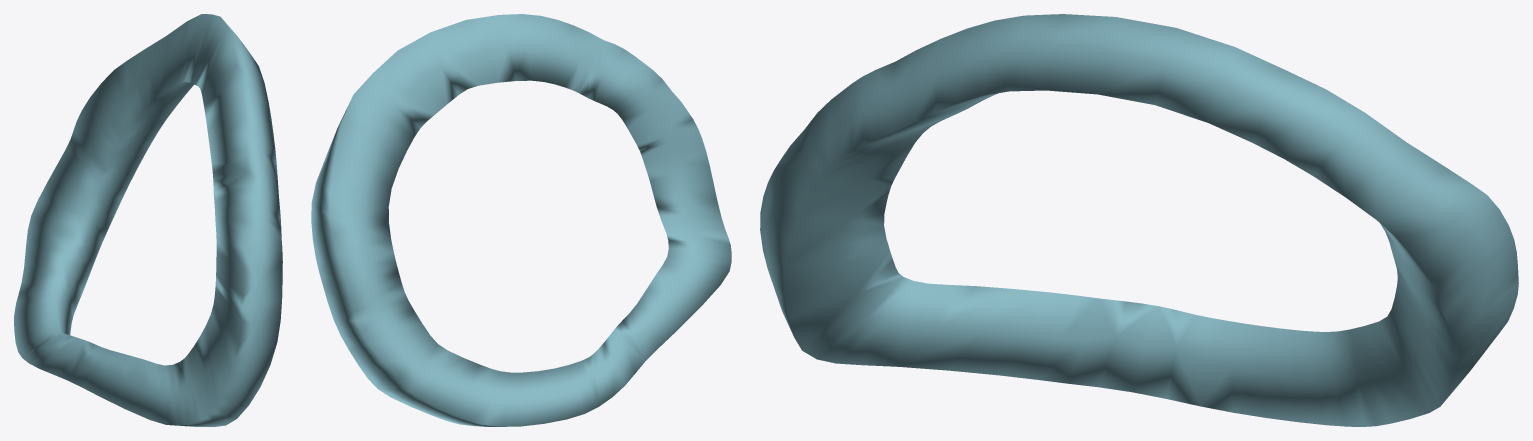
3 renders of one model, left to right at view 1: azimuth 30°, elevation 25°; view 2: azimuth 150°, elevation 25°; view 3: azimuth 270°, elevation 25°, orthographic. The views are drawn at different scales.
Visible parts, largest first — view 1: 左侧关节盂唇; view 2: 左侧关节盂唇; view 3: 左侧关节盂唇.
Boxes of the visible parts, x1,y1,x2,y2 form: 左侧关节盂唇: (14, 14, 282, 426); 左侧关节盂唇: (311, 14, 731, 426); 左侧关节盂唇: (760, 14, 1518, 426).
Size of the model in its own units: 0.028 by 0.0372 by 0.0527.
